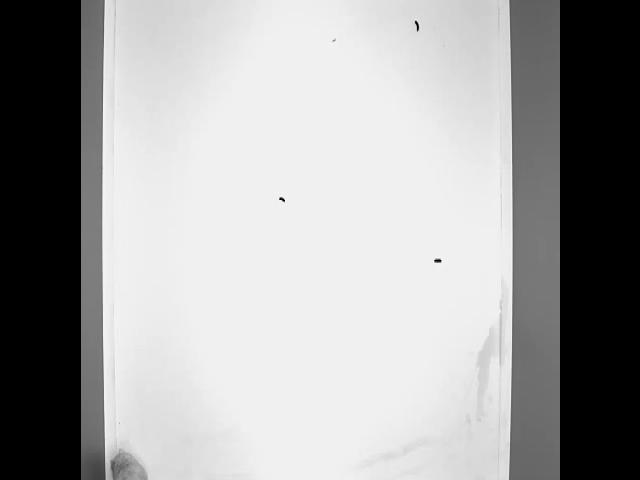Tikus: (102, 445, 151, 480)
